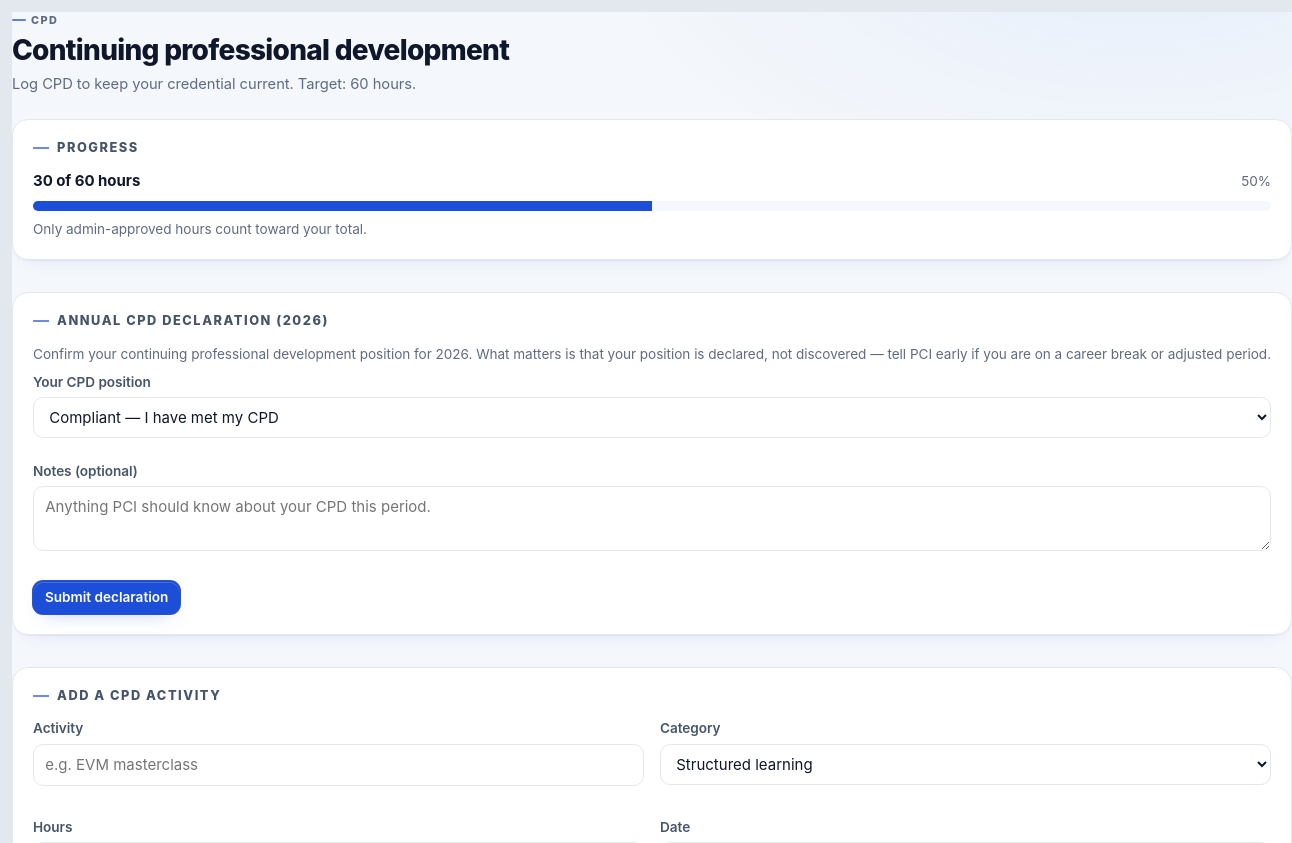
Scenario: Cpd (continuing professional development) › posts the chosen position when the annual declaration is submitted
This screenshot has width=1292, height=843.
Step 1. Select "On a career break / adjusted period" in the dropdown labelled "Your CPD position" → (652,418), box [33,397,1271,438]
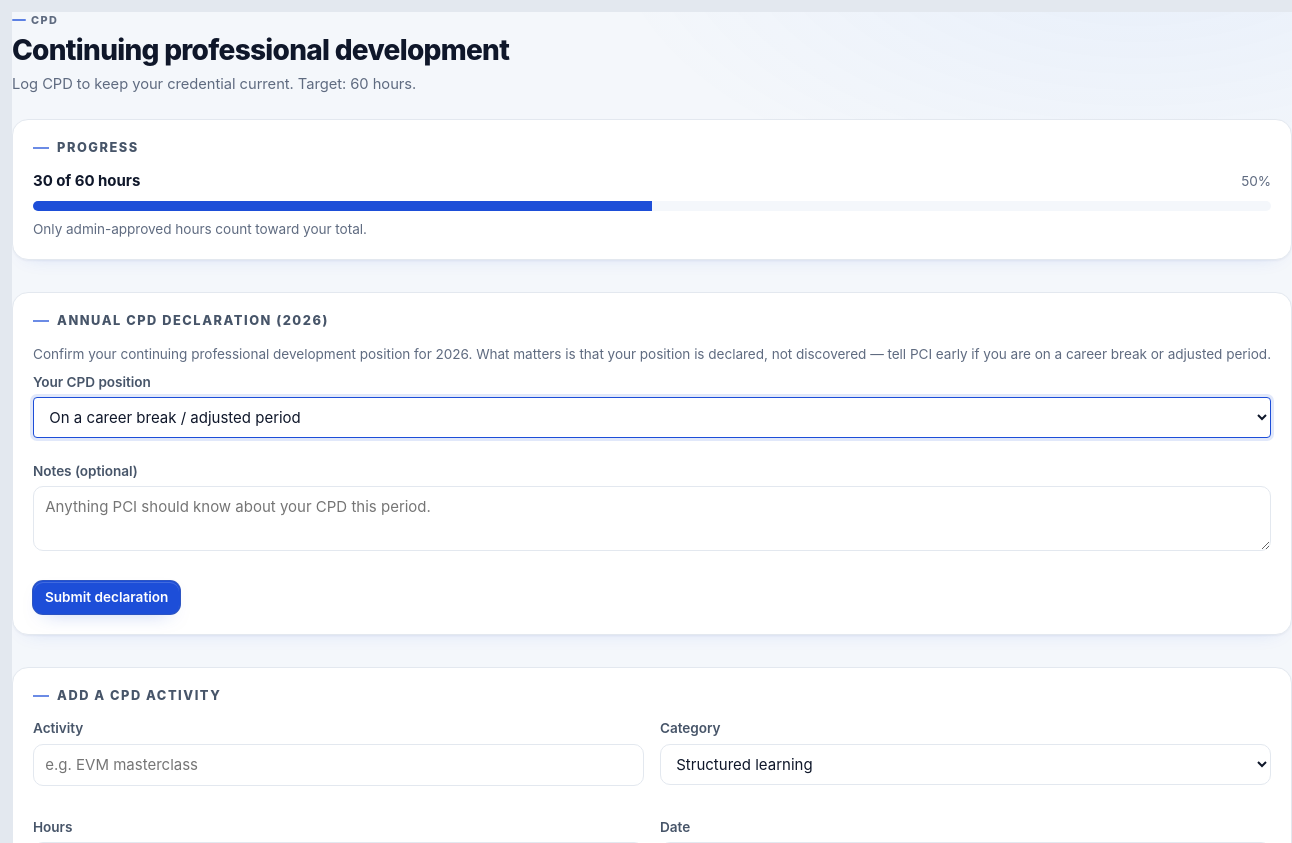
Step 2. Click the button "Submit declaration" → (107,597), box [33,581,180,614]
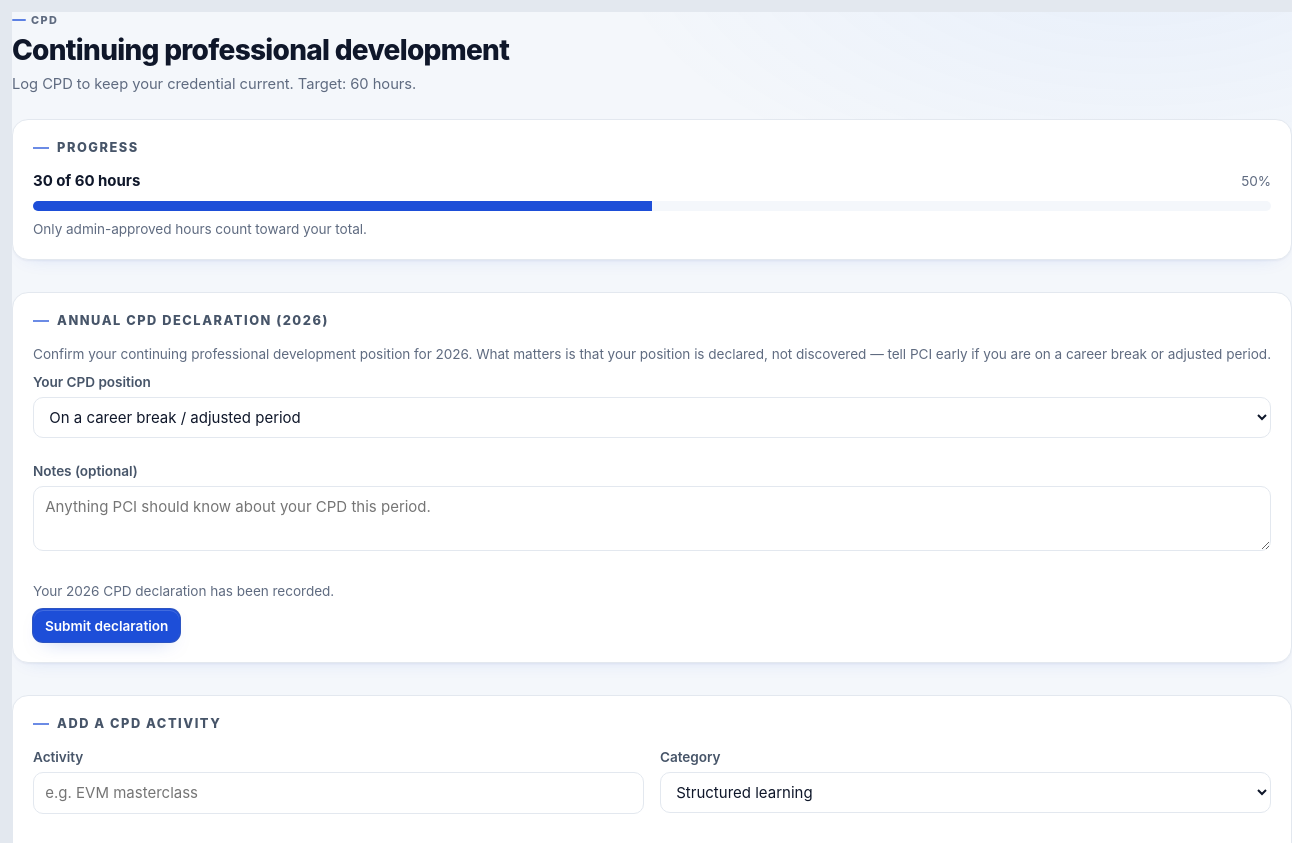
Expected: the text "Your 2026 CPD declaration has been recorded." is shown, [33,583,334,599]
